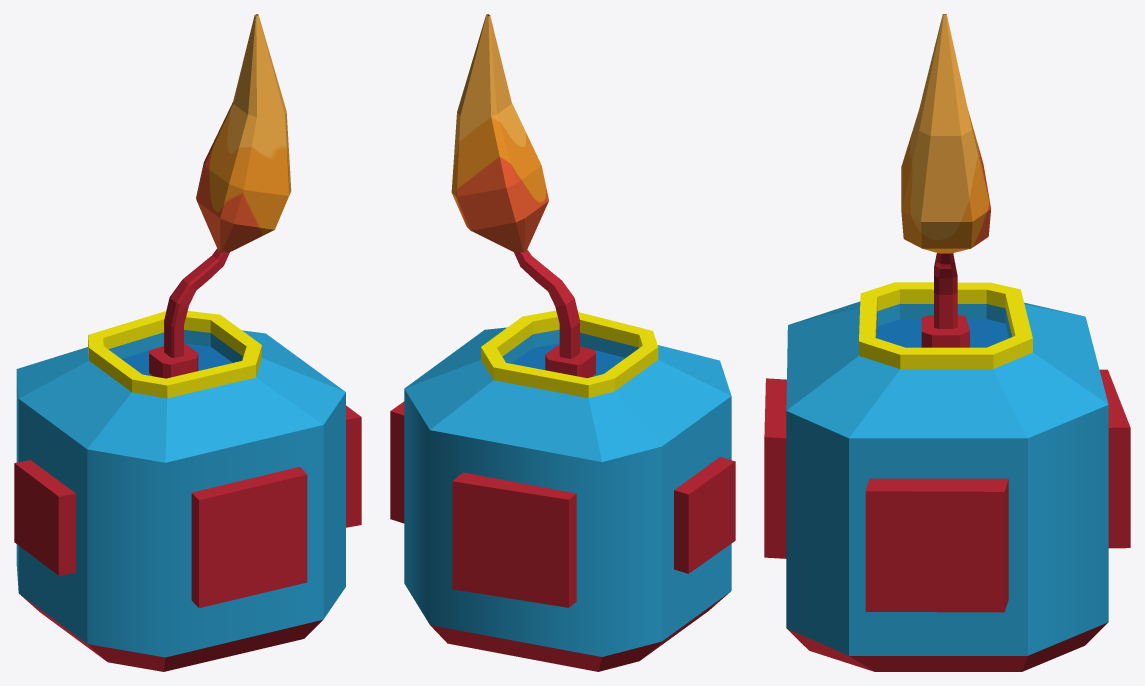
File: bomb.FBX
The picture shows the model from 3 angles, left to right: view 1: azimuth 30°, elevation 25°; view 2: azimuth 150°, elevation 25°; view 3: azimuth 270°, elevation 25°; orthographic projection. The views are drawn at different scales.
Visible parts, largest first — view 1: bomb_body001, bomb_fire001; view 2: bomb_body001, bomb_fire001; view 3: bomb_body001, bomb_fire001.
Boxes of the visible parts, x1=… form: bomb_body001: x1=14, y1=248, x2=361, y2=671; bomb_fire001: x1=196, y1=14, x2=291, y2=252; bomb_body001: x1=390, y1=249, x2=735, y2=671; bomb_fire001: x1=451, y1=14, x2=548, y2=252; bomb_body001: x1=764, y1=253, x2=1130, y2=671; bomb_fire001: x1=901, y1=14, x2=990, y2=253.
Size of the model in its own units: 25.94 by 48.75 by 25.12.
